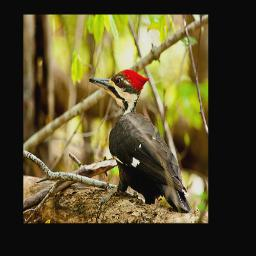Woodpecker: (87, 70, 191, 214)
